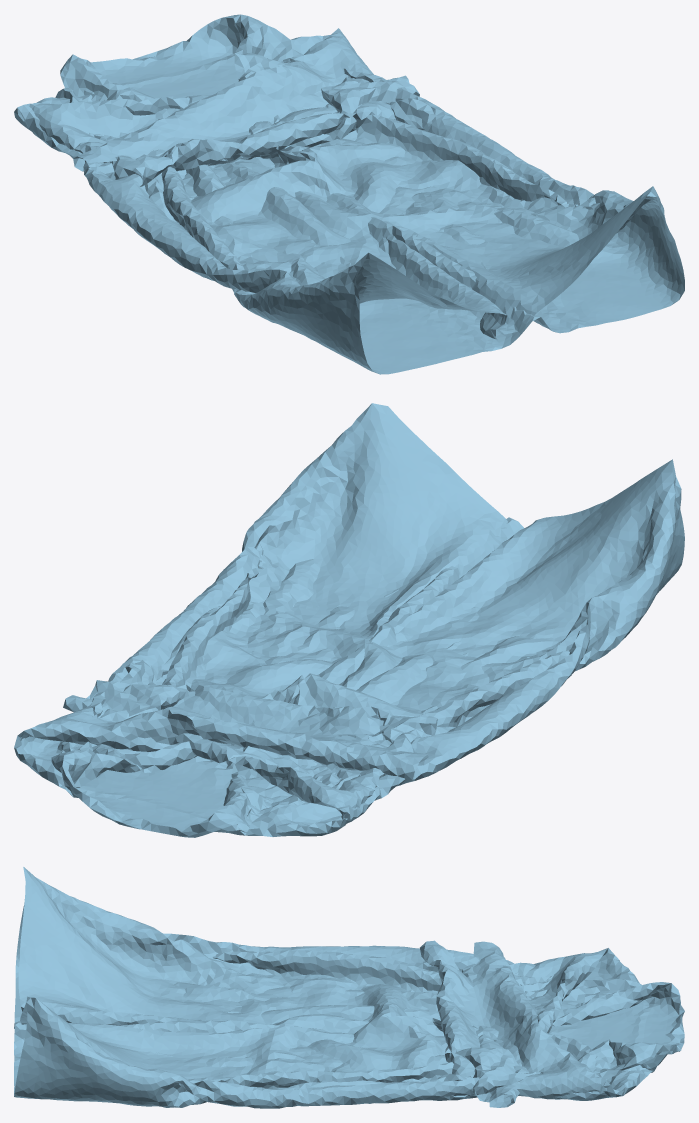
File: frame_02.glb
The picture shows the model from 3 angles, top to bottom: view 1: azimuth 30°, elevation 25°; view 2: azimuth 150°, elevation 25°; view 3: azimuth 270°, elevation 25°; orthographic projection. The views are drawn at different scales.
Parts seen in each view (by area): view 1: frame_02.obj; view 2: frame_02.obj; view 3: frame_02.obj.
Part boxes in pixels (x1,y1,x2,y2): frame_02.obj: (14,14,684,374); frame_02.obj: (14,403,684,837); frame_02.obj: (14,867,684,1108).
Size of the model in its own units: 0.9246 by 0.2988 by 1.66.
